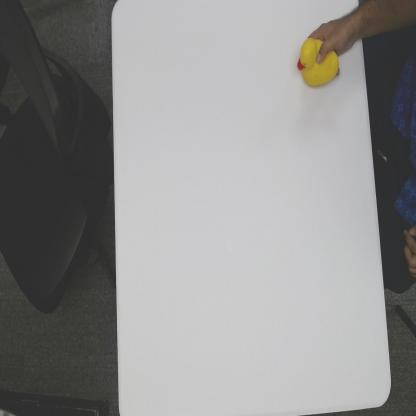Duck: (297, 37, 342, 86)
Hand: (311, 16, 355, 65)
